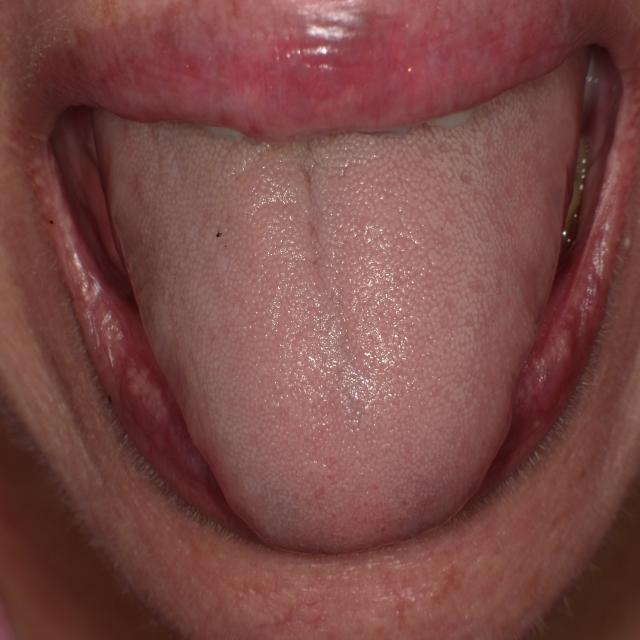baitaishe: (92, 44, 591, 555)
